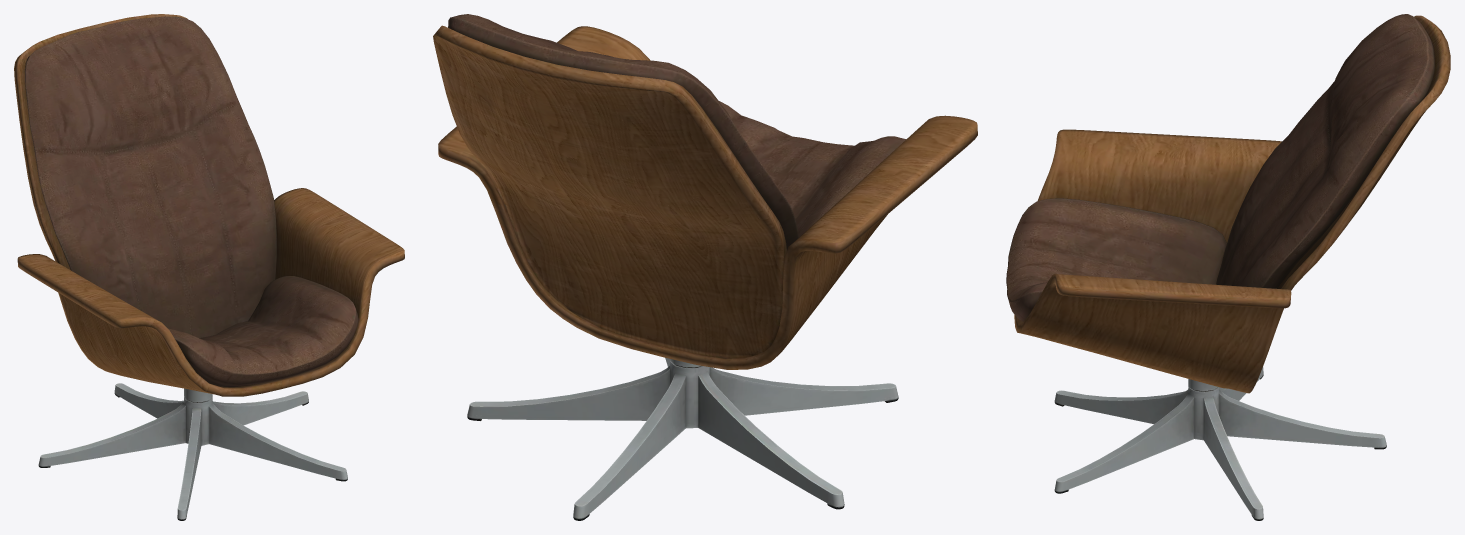
File: mid_century_lounge_chair.glb
3 views of the same model, side by side, from view 1: azimuth 30°, elevation 25°; view 2: azimuth 150°, elevation 25°; view 3: azimuth 270°, elevation 25° (orthographic). The views are drawn at different scales.
Visible parts, largest first — view 1: mid_century_lounge_chair; view 2: mid_century_lounge_chair; view 3: mid_century_lounge_chair.
Part boxes in pixels (left/top/right/bottom): mid_century_lounge_chair: left=14, top=14, right=404, bottom=520; mid_century_lounge_chair: left=433, top=14, right=977, bottom=520; mid_century_lounge_chair: left=1006, top=14, right=1450, bottom=520.
Bounding box in the file's own units: 1.01 × 1.17 × 1.19.
1 material, 1 textured.
